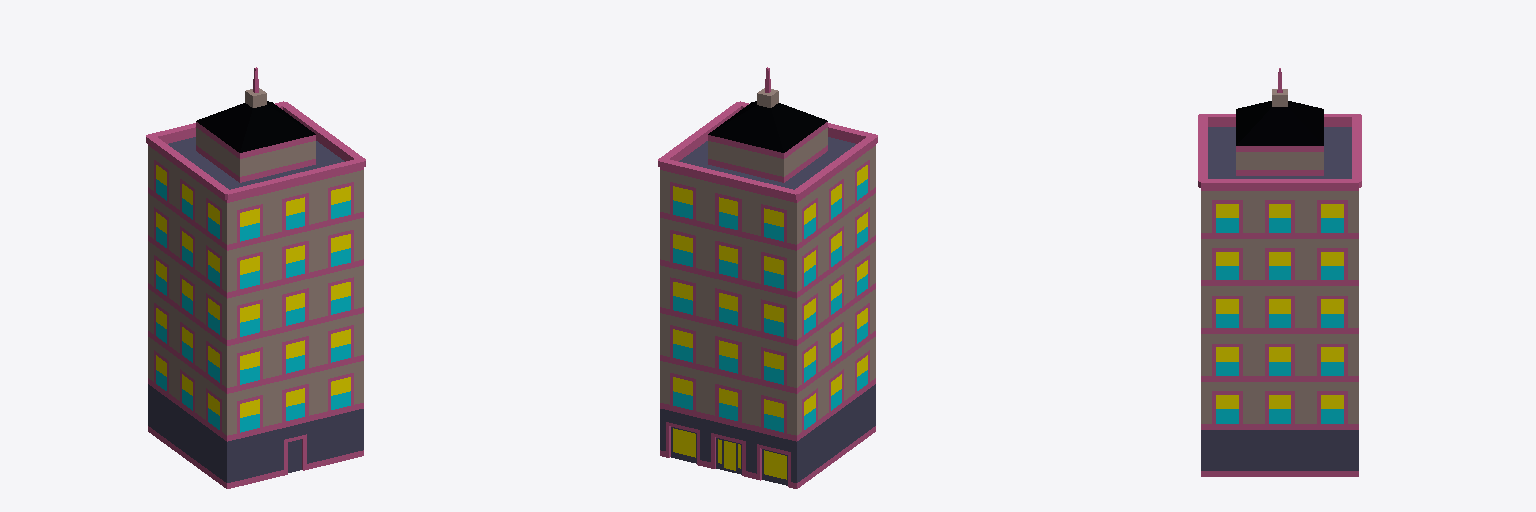
The model's file is skyscraperE_CyPk.obj.
3 views of the same model, side by side, from view 1: azimuth 30°, elevation 25°; view 2: azimuth 150°, elevation 25°; view 3: azimuth 270°, elevation 25° (orthographic).
Visible parts, largest first — view 1: skyscraperE; view 2: skyscraperE; view 3: skyscraperE.
Part boxes in pixels (x1,y1,x2,y2): skyscraperE: (146, 67, 365, 488); skyscraperE: (658, 67, 877, 488); skyscraperE: (1198, 68, 1361, 476).
Bounding box in the file's own units: 1.24 × 3.15 × 1.24.